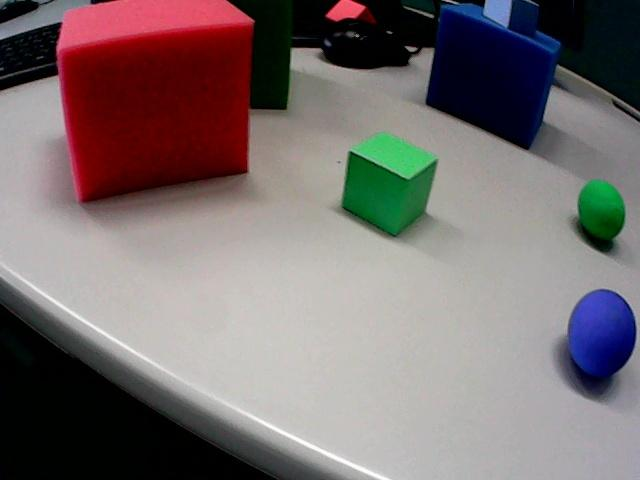blue_block: (426, 4, 559, 147), (483, 0, 538, 35), (508, 0, 538, 35), (483, 0, 512, 27)
red_block: (57, 0, 253, 200), (325, 0, 375, 23)
